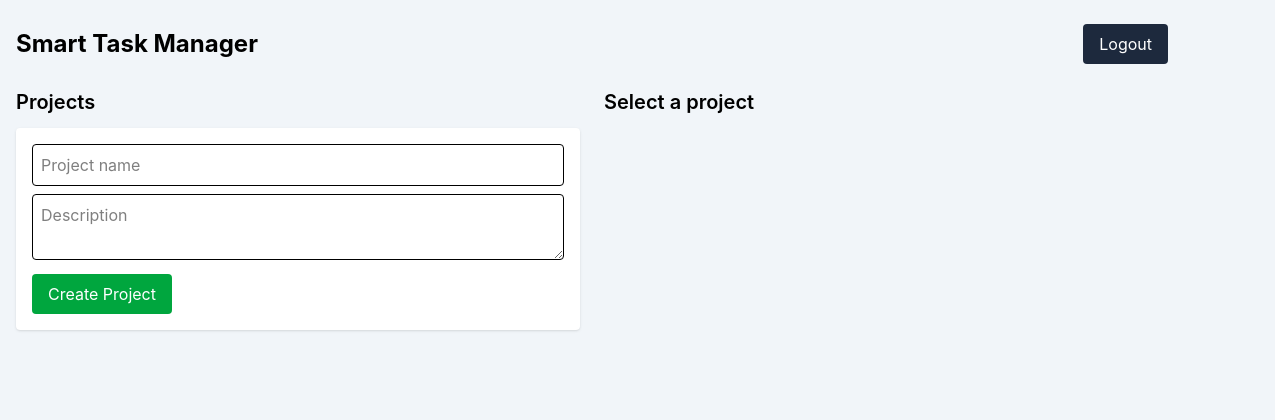
App integration › shows project validation error and keeps form values on failed create
In the field with placeholder "Project name": [298, 165] box 32,144 -> 564,186, type "Temporary Project"
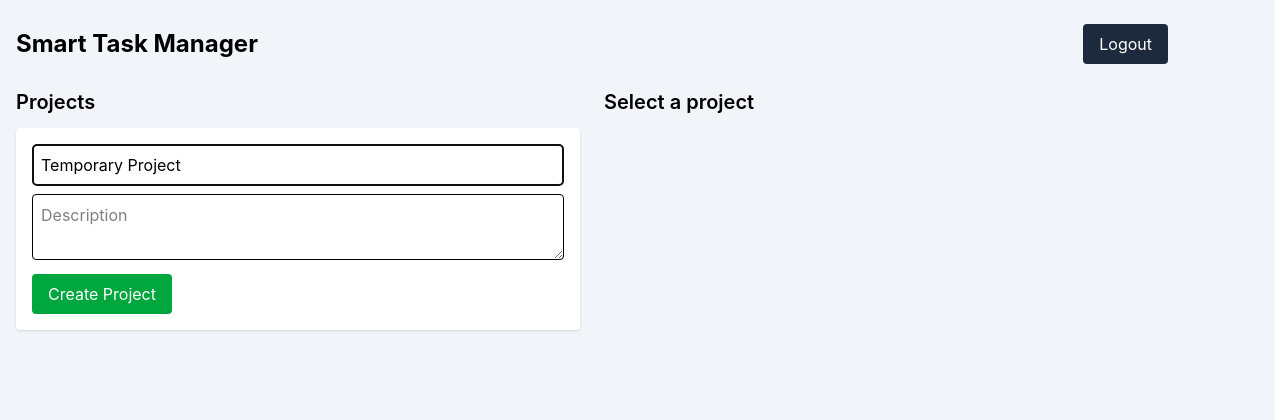
In the text box with placeholder "Description": [298, 227] box 32,194 -> 564,260, type "Should stay in the form"
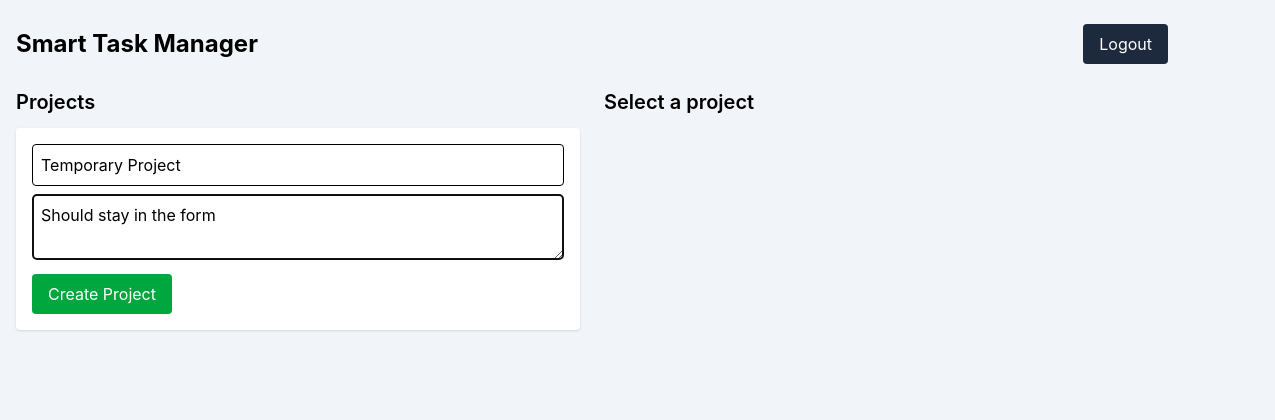
Click the button "Create Project": [102, 294] box 32,274 -> 172,314
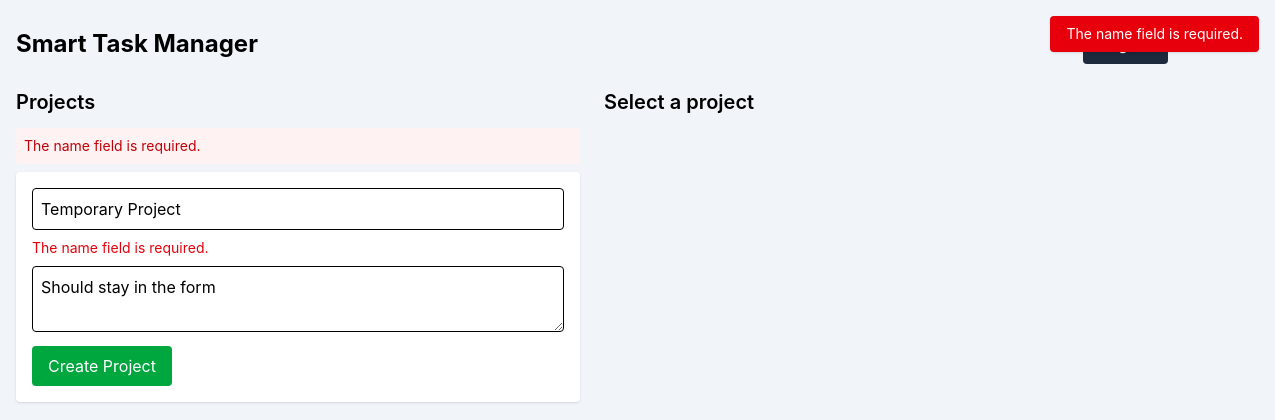
expect the 1st text "The name field is required." is shown: met, box 1050,16 -> 1259,52
